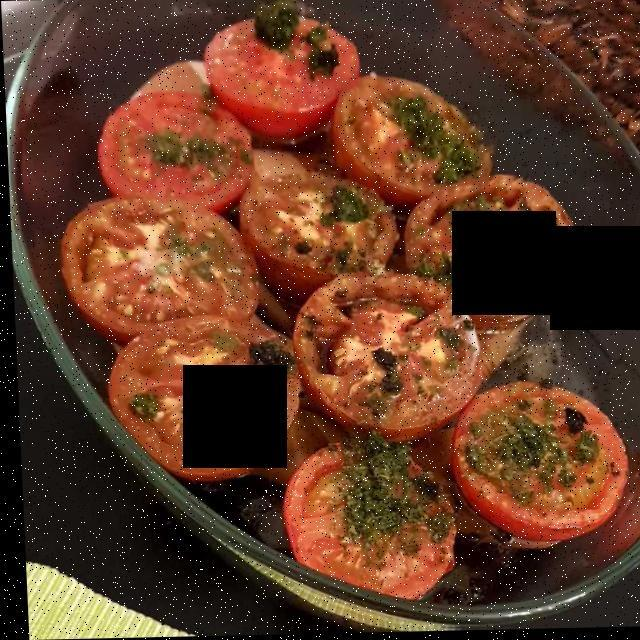bouquet-garni: (175, 8, 553, 554)
tomato: (67, 16, 620, 590)
